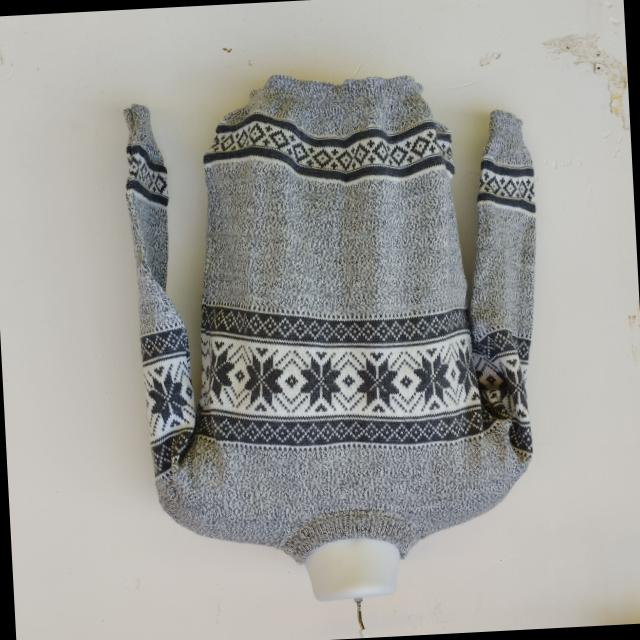Chompa: (120, 61, 558, 612)
